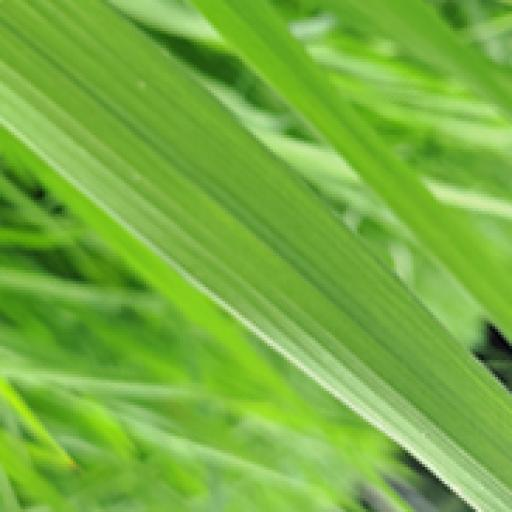Healthy Leaf: (6, 6, 506, 506)
